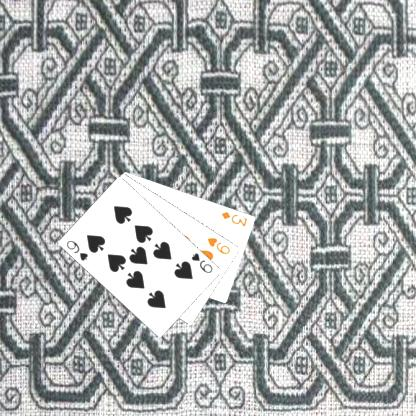3D: (219, 209, 249, 228)
9H: (205, 235, 231, 256)
9S: (63, 237, 90, 262), (189, 250, 214, 274)
